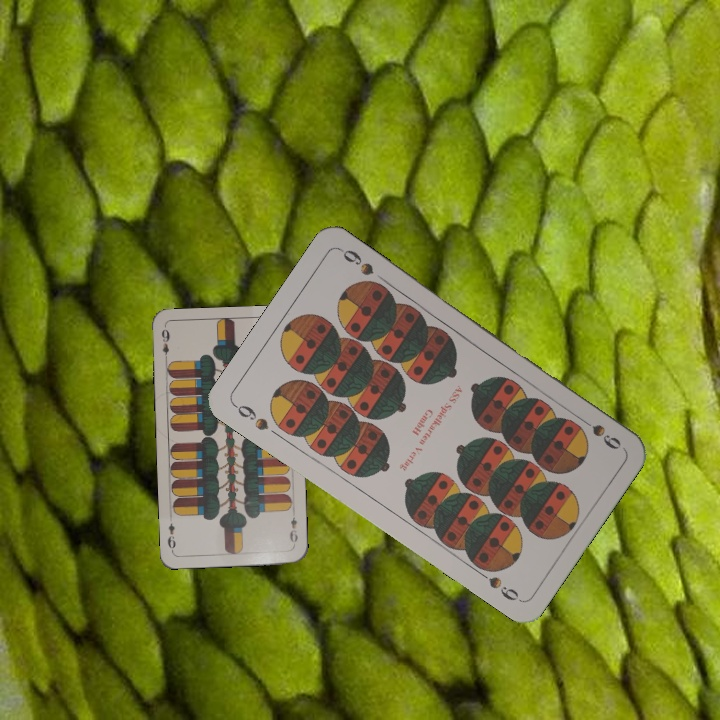E9: (157, 325, 172, 364), (286, 512, 300, 548)
S9: (573, 411, 624, 453), (230, 400, 272, 433)
